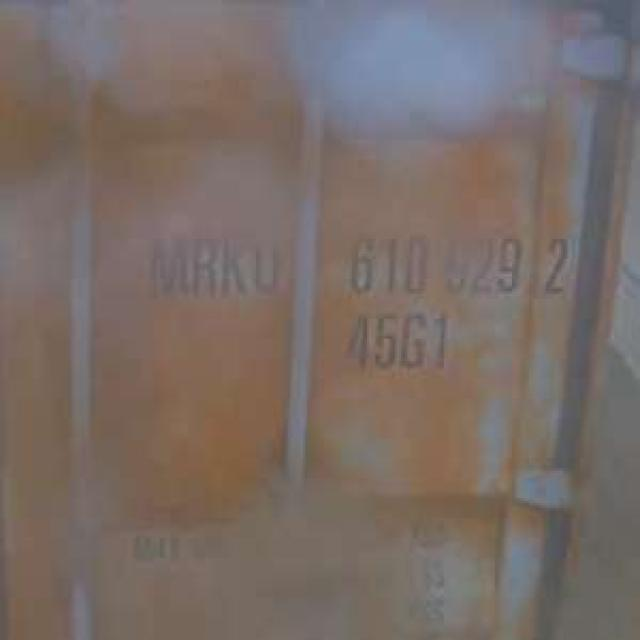dv: (535, 226, 580, 302)
owner: (147, 216, 285, 304)
serial: (333, 214, 530, 302)
size: (342, 304, 456, 377)
